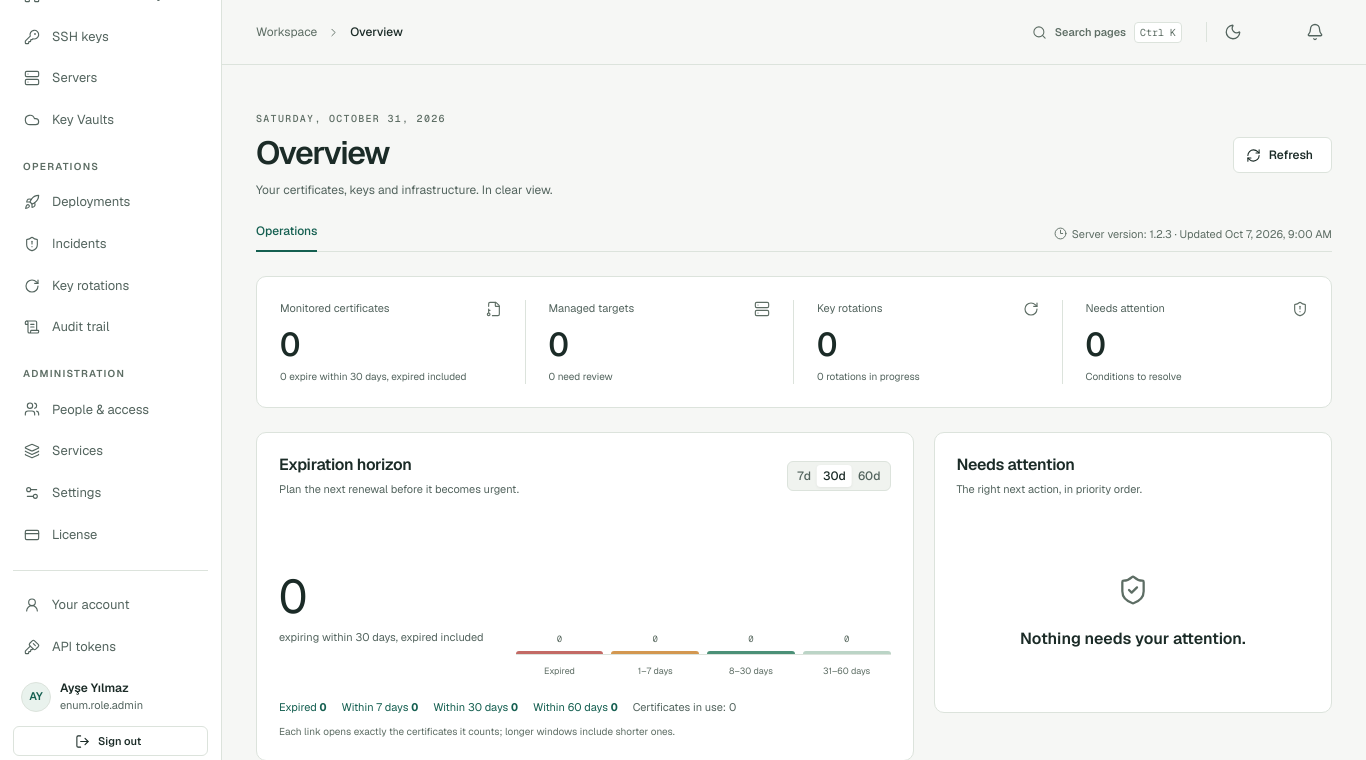
Test case: application shell › stays signed in and says so when logout fails for another reason
(page scrolled)
Click the button "Sign out": (110, 741) [13,726,208,756]
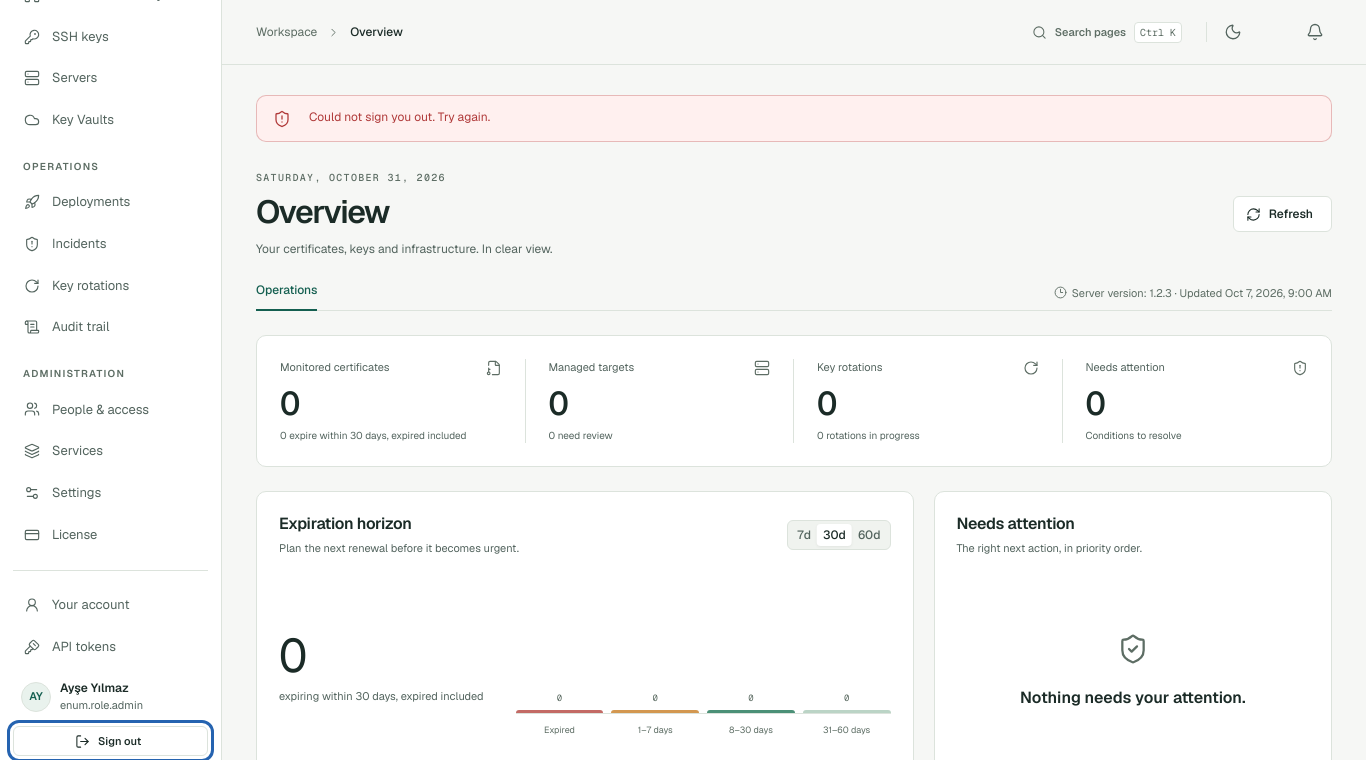
Check: the text with test id "current-user" reads "Ayşe Yılmaz", box [60,680,129,696]
Check: the message with test id "signout-error" reads "Could not sign you out. Try again.", box [309,109,490,125]
